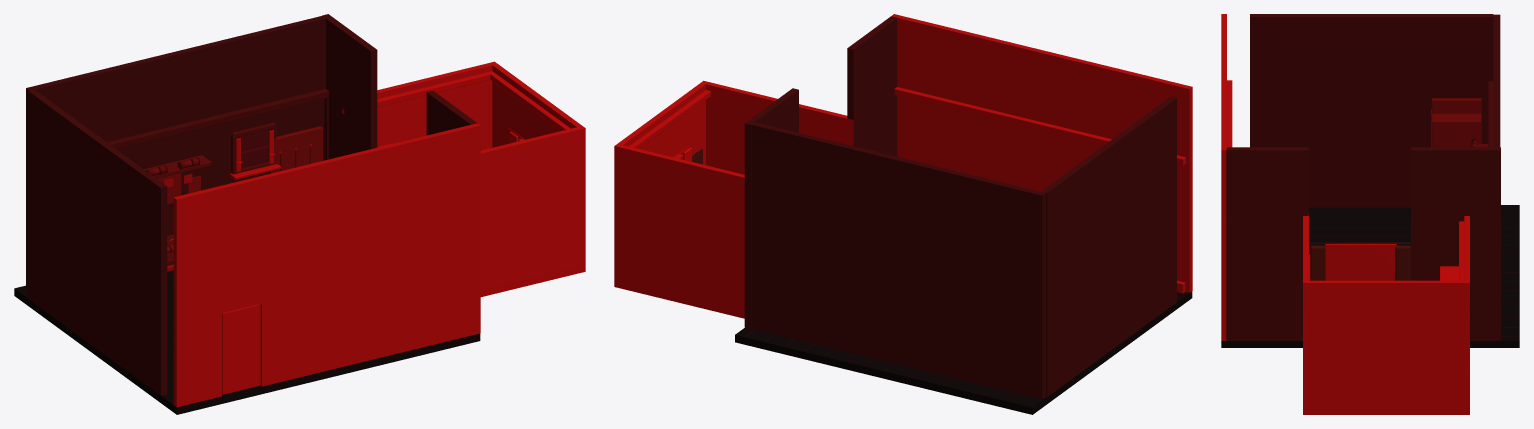
File: workshop.glb
3 renders of one model, left to right at view 1: azimuth 30°, elevation 25°; view 2: azimuth 150°, elevation 25°; view 3: azimuth 270°, elevation 25°, orthographic. The views are drawn at different scales.
Parts seen in each view (by area): view 1: outlined, plain, door; view 2: plain, outlined; view 3: plain, outlined.
Boxes of the visible parts, bbox=[...] form: outlined: bbox=[107, 61, 585, 407]; plain: bbox=[14, 14, 480, 414]; door: bbox=[222, 304, 260, 394]; plain: bbox=[692, 16, 1192, 414]; outlined: bbox=[614, 14, 1192, 318]; plain: bbox=[1221, 14, 1519, 347]; outlined: bbox=[1221, 14, 1493, 414].
Size of the model in its own units: 12.56 by 5.7 by 7.8.
